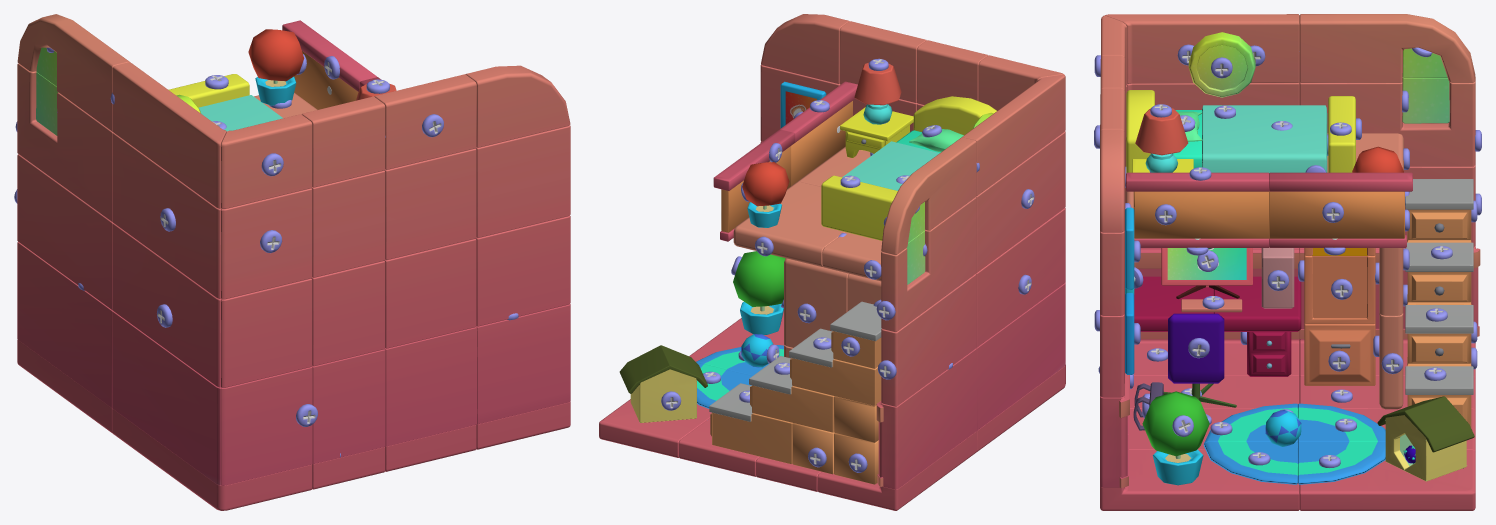
File: lvl_89.fbx
3 renders of one model, left to right at view 1: azimuth 30°, elevation 25°; view 2: azimuth 150°, elevation 25°; view 3: azimuth 270°, elevation 25°, orthographic. The views are drawn at different scales.
Visible parts, largest first — view 1: Room_Diorama_23, Room_Diorama_11, Room_Diorama_24, Room_Diorama_17, Room_Diorama_19, Room_Diorama_20, Room_Diorama_5, Room_Diorama_12, Room_Diorama_22, Room_Diorama_7, Room_Diorama_18, Room_Diorama_13 (+22 smaller); view 2: Room_Diorama_24, Room_Diorama_23, Room_Diorama_12, Room_Diorama_18, Room_Diorama_11, Room_Diorama_17, Room_Diorama_5, Room_Diorama_6, Room_Diorama_60, Room_Diorama_45, Room_Diorama_1, Room_Diorama_62 (+36 smaller); view 3: Room_Diorama_6, Room_Diorama_12, Room_Diorama_5, Room_Diorama_39, Room_Diorama_25, Room_Diorama_29, Room_Diorama_49, Room_Diorama_50, Room_Diorama_60, Room_Diorama_66, Room_Diorama_79, Room_Diorama_67 (+51 smaller).
Part boxes in pixels (x1,y1,x2,y2): Room_Diorama_23: (112,311,221,485); Room_Diorama_11: (112,133,221,298); Room_Diorama_24: (17,241,112,407); Room_Diorama_17: (112,223,221,387); Room_Diorama_19: (476,304,570,424); Room_Diorama_20: (385,327,476,446); Room_Diorama_5: (112,62,226,208); Room_Diorama_12: (17,63,113,221); Room_Diorama_22: (221,367,312,485); Room_Diorama_7: (476,125,570,237); Room_Diorama_18: (17,154,113,309); Room_Diorama_13: (476,215,570,326); Room_Diorama_24: (876,348,976,489); Room_Diorama_23: (976,282,1065,430); Room_Diorama_12: (881,197,976,332); Room_Diorama_18: (881,274,976,406); Room_Diorama_11: (976,131,1065,272); Room_Diorama_17: (976,208,1065,347); Room_Diorama_5: (961,74,1065,195); Room_Diorama_6: (881,137,976,255); Room_Diorama_60: (619,345,707,422); Room_Diorama_45: (733,181,845,266); Room_Diorama_1: (761,14,849,84); Room_Diorama_62: (784,258,848,347); Room_Diorama_6: (1299,14,1475,82); Room_Diorama_12: (1299,77,1475,166); Room_Diorama_5: (1105,14,1299,84); Room_Diorama_39: (1202,105,1326,172); Room_Diorama_25: (1100,450,1299,510); Room_Diorama_29: (1299,450,1475,510); Room_Diorama_49: (1133,191,1269,238); Room_Diorama_50: (1269,191,1404,238); Room_Diorama_60: (1377,396,1474,481); Room_Diorama_66: (1304,255,1375,324); Room_Diorama_79: (1142,391,1209,485); Room_Diorama_67: (1304,323,1375,385).
Bounding box in the file's own units: 5.84 × 5.78 × 5.87.
